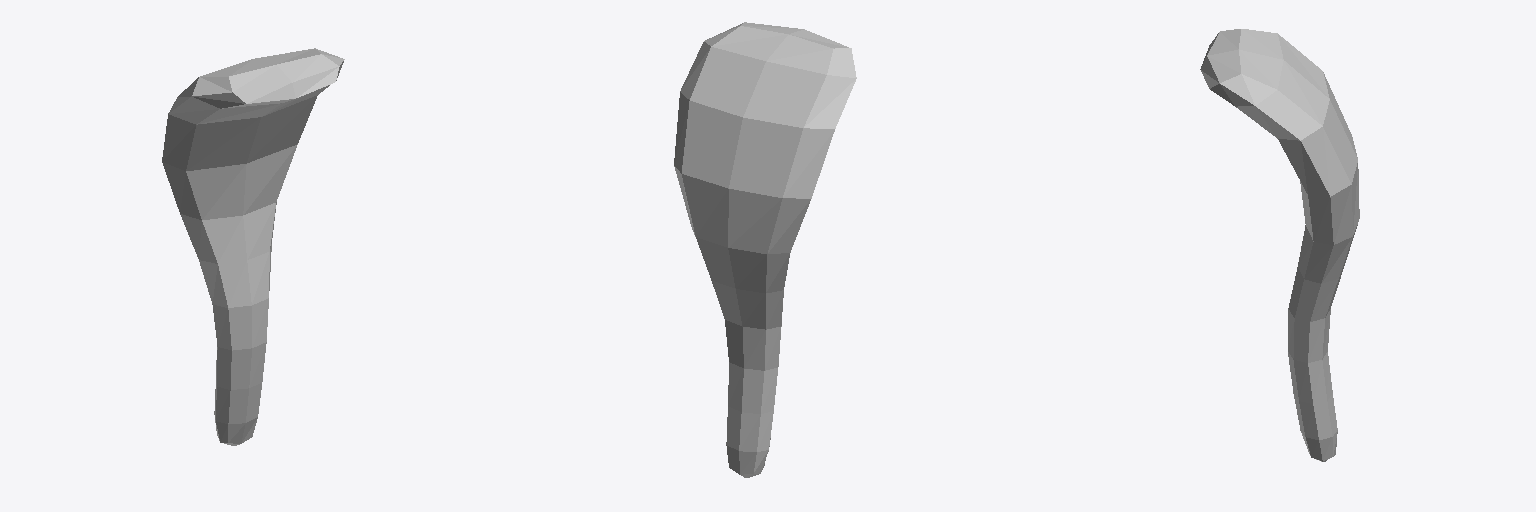
File: Grass3D.obj
3 renders of one model, left to right at view 1: azimuth 30°, elevation 25°; view 2: azimuth 150°, elevation 25°; view 3: azimuth 270°, elevation 25°, orthographic.
Parts seen in each view (by area): view 1: Group35060; view 2: Group35060; view 3: Group35060.
Part boxes in pixels (x1,y1,x2,y2): Group35060: (162,48,344,445); Group35060: (674,22,856,477); Group35060: (1200,29,1359,461).
Size of the model in its own units: 0.1682 by 0.4279 by 0.1497.